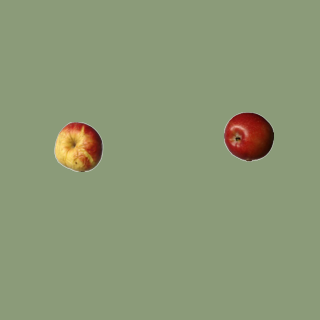Apple Braeburn: (223, 111, 273, 161)
Apple Red Yellow 1: (53, 121, 103, 171)
